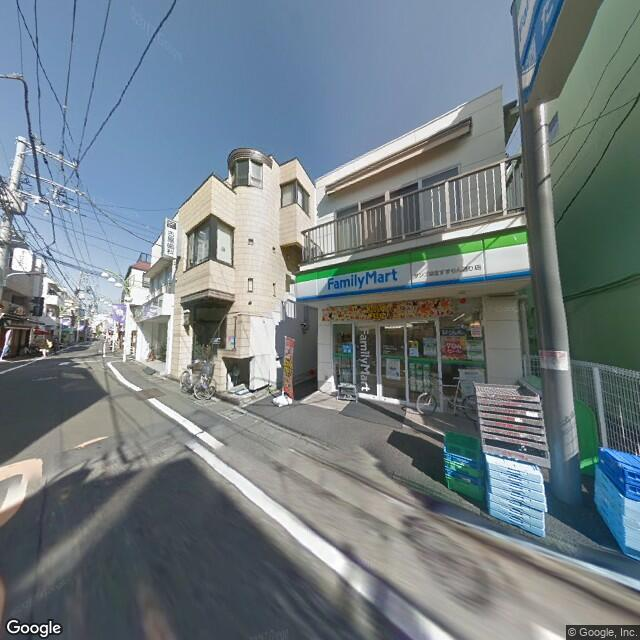family_mart: (296, 220, 531, 303), (325, 262, 406, 297), (352, 324, 374, 394)
